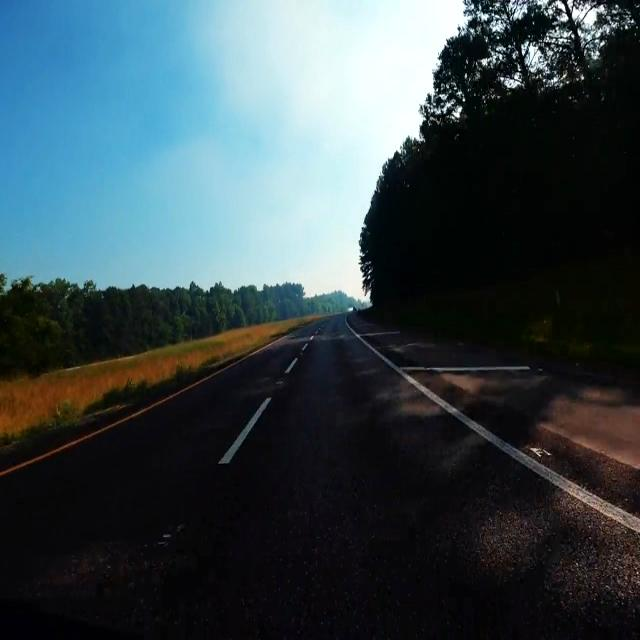road: (0, 316, 640, 636), (349, 314, 640, 516)
